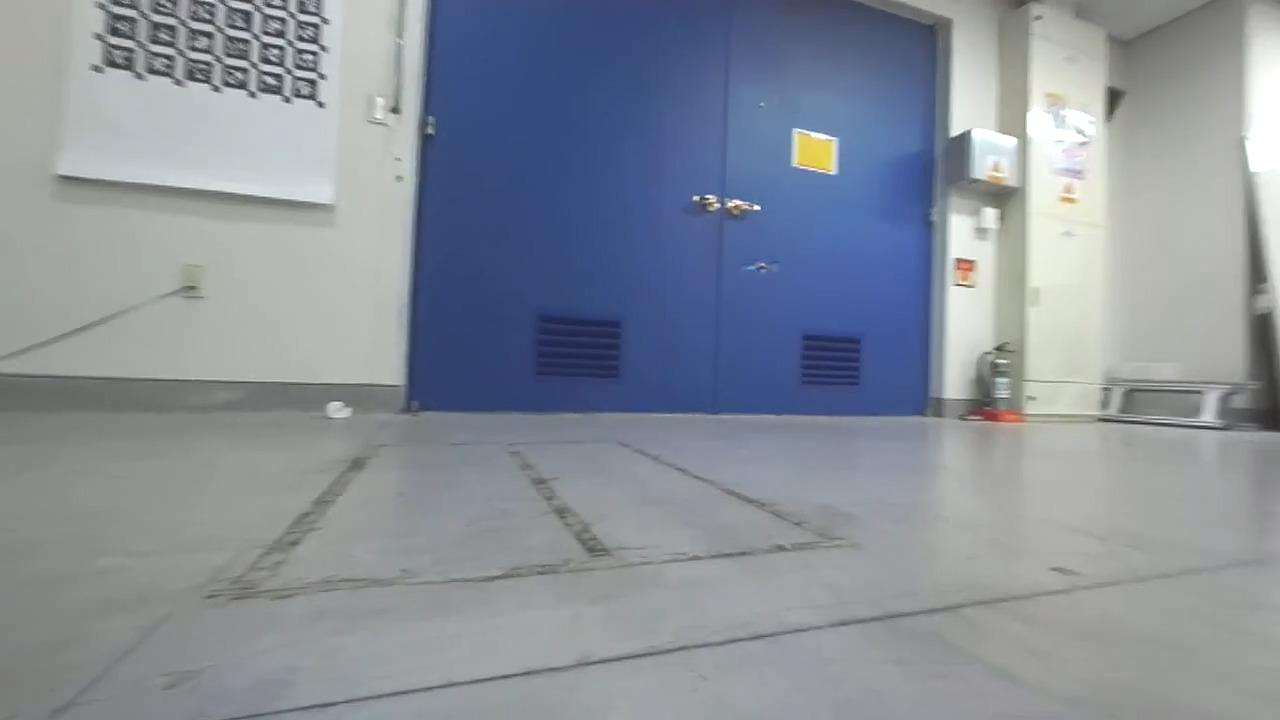crazyflie: (739, 255, 782, 276)
